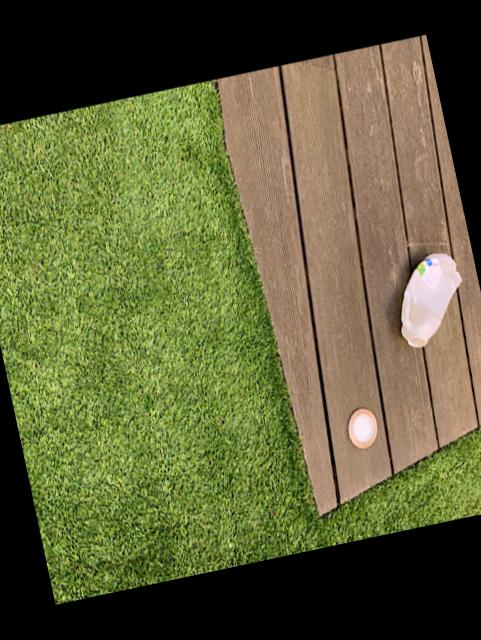plastic: (401, 252, 460, 346)
